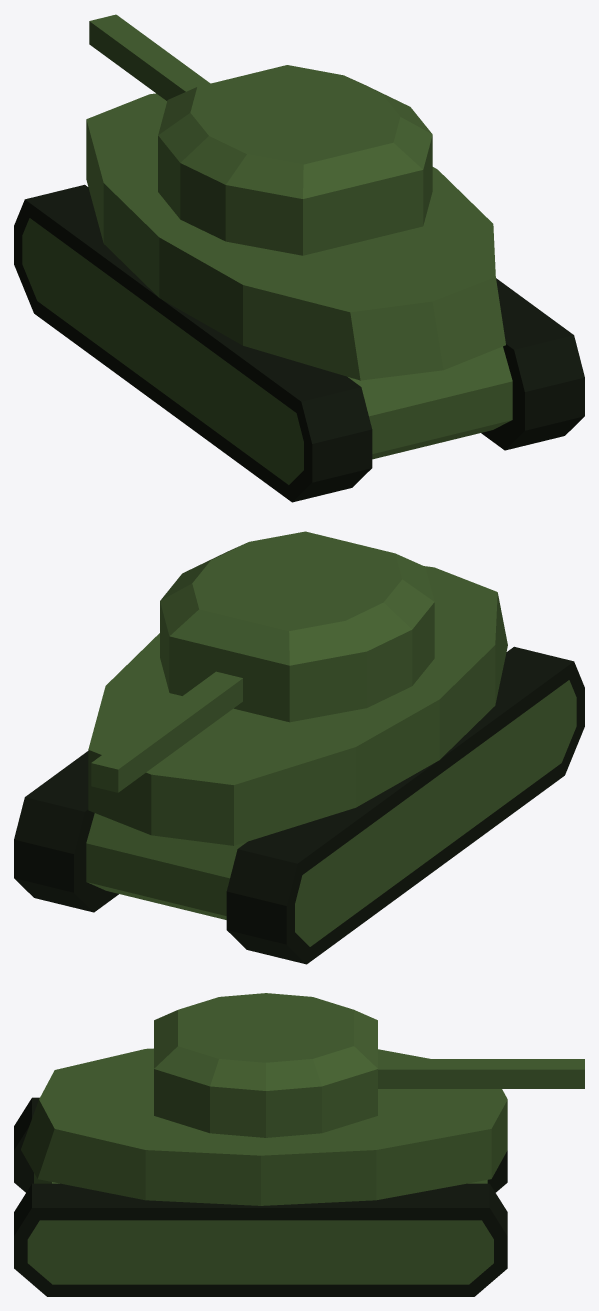
The model's file is tank 1.fbx.
3 renders of one model, top to bottom at view 1: azimuth 30°, elevation 25°; view 2: azimuth 150°, elevation 25°; view 3: azimuth 270°, elevation 25°, orthographic. The views are drawn at different scales.
Parts seen in each view (by area): view 1: Tank; view 2: Tank; view 3: Tank.
Part boxes in pixels (bbox=[...]): Tank: bbox=[14, 14, 584, 502]; Tank: bbox=[14, 531, 584, 964]; Tank: bbox=[14, 993, 584, 1296].
Size of the model in its own units: 329 by 291 by 706.
